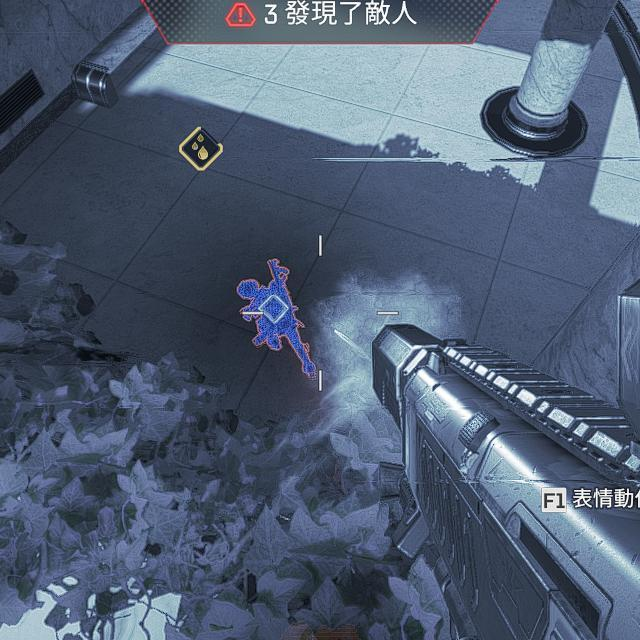avatar: (235, 279, 299, 349)
object: (259, 294, 289, 323)
